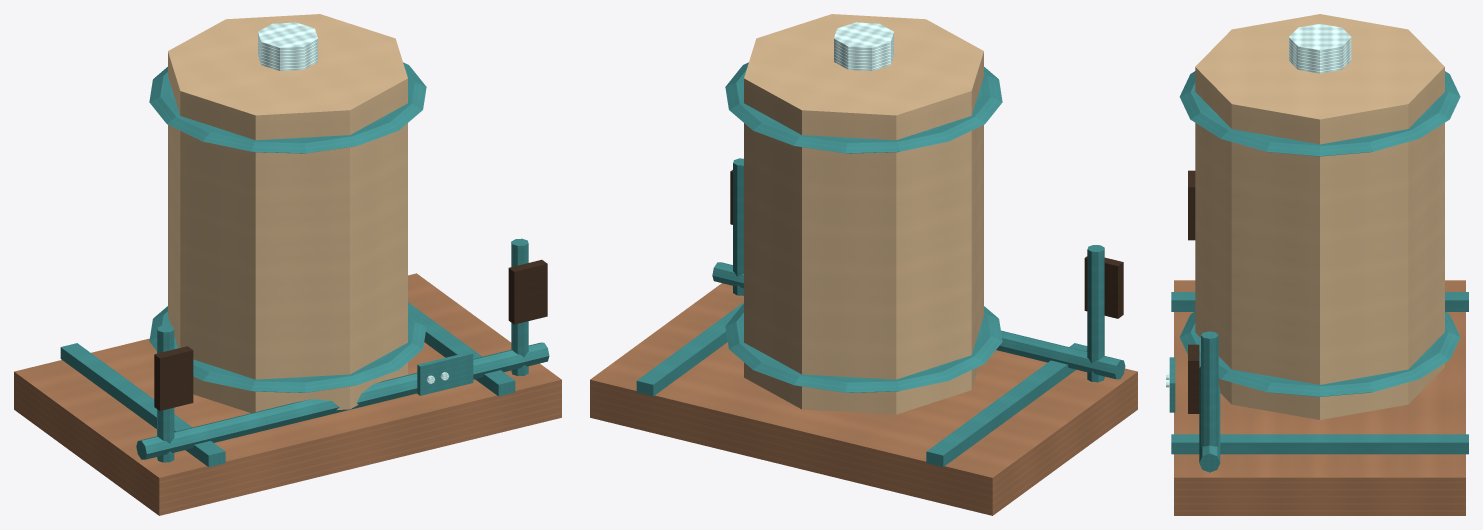
The model's file is atlas100-s094-a02.glb.
3 renders of one model, left to right at view 1: azimuth 30°, elevation 25°; view 2: azimuth 150°, elevation 25°; view 3: azimuth 270°, elevation 25°, orthographic.
Visible parts, largest first — view 1: atlas100-s094-a02:part-003, atlas100-s094-a02:part-000, atlas100-s094-a02:part-011, atlas100-s094-a02:part-005, atlas100-s094-a02:part-004, atlas100-s094-a02:part-001, atlas100-s094-a02:part-006, atlas100-s094-a02:part-010, atlas100-s094-a02:part-008, atlas100-s094-a02:part-002, atlas100-s094-a02:part-012, atlas100-s094-a02:part-007 (+1 smaller); view 2: atlas100-s094-a02:part-003, atlas100-s094-a02:part-000, atlas100-s094-a02:part-005, atlas100-s094-a02:part-004, atlas100-s094-a02:part-001, atlas100-s094-a02:part-011, atlas100-s094-a02:part-006, atlas100-s094-a02:part-002, atlas100-s094-a02:part-007, atlas100-s094-a02:part-009, atlas100-s094-a02:part-008; view 3: atlas100-s094-a02:part-003, atlas100-s094-a02:part-000, atlas100-s094-a02:part-002, atlas100-s094-a02:part-005, atlas100-s094-a02:part-004, atlas100-s094-a02:part-006, atlas100-s094-a02:part-009, atlas100-s094-a02:part-001, atlas100-s094-a02:part-011, atlas100-s094-a02:part-010, atlas100-s094-a02:part-008, atlas100-s094-a02:part-012.
Boxes of the visible parts, box(x1,y1,x2,y2) form: atlas100-s094-a02:part-003: box(168, 14, 407, 412); atlas100-s094-a02:part-000: box(14, 273, 561, 515); atlas100-s094-a02:part-011: box(136, 342, 549, 459); atlas100-s094-a02:part-005: box(149, 62, 426, 153); atlas100-s094-a02:part-004: box(149, 304, 426, 392); atlas100-s094-a02:part-001: box(60, 343, 225, 466); atlas100-s094-a02:part-006: box(258, 22, 317, 70); atlas100-s094-a02:part-010: box(508, 259, 547, 324); atlas100-s094-a02:part-008: box(154, 346, 193, 410); atlas100-s094-a02:part-002: box(408, 302, 515, 396); atlas100-s094-a02:part-012: box(417, 351, 473, 395); atlas100-s094-a02:part-007: box(157, 325, 174, 462); atlas100-s094-a02:part-003: box(744, 14, 983, 414); atlas100-s094-a02:part-000: box(590, 283, 1137, 515); atlas100-s094-a02:part-005: box(725, 62, 1002, 153); atlas100-s094-a02:part-004: box(725, 304, 1002, 392); atlas100-s094-a02:part-001: box(926, 343, 1087, 466); atlas100-s094-a02:part-011: box(712, 262, 1125, 379); atlas100-s094-a02:part-006: box(834, 22, 893, 70); atlas100-s094-a02:part-002: box(636, 302, 743, 396); atlas100-s094-a02:part-007: box(1087, 245, 1104, 382); atlas100-s094-a02:part-009: box(733, 158, 743, 295); atlas100-s094-a02:part-008: box(1084, 256, 1123, 318); atlas100-s094-a02:part-003: box(1195, 14, 1444, 419); atlas100-s094-a02:part-000: box(1174, 280, 1465, 515); atlas100-s094-a02:part-002: box(1171, 434, 1468, 454); atlas100-s094-a02:part-005: box(1179, 71, 1460, 156); atlas100-s094-a02:part-004: box(1179, 311, 1460, 396); atlas100-s094-a02:part-006: box(1289, 24, 1351, 73); atlas100-s094-a02:part-009: box(1201, 331, 1218, 446); atlas100-s094-a02:part-001: box(1171, 292, 1468, 311); atlas100-s094-a02:part-011: box(1199, 367, 1220, 472); atlas100-s094-a02:part-010: box(1188, 344, 1199, 413); atlas100-s094-a02:part-008: box(1188, 170, 1195, 240); atlas100-s094-a02:part-012: box(1169, 357, 1175, 412).
Bounding box in the file's own units: 2.88 × 2.59 × 1.87.
Materials: 5 (5 with a texture image).
